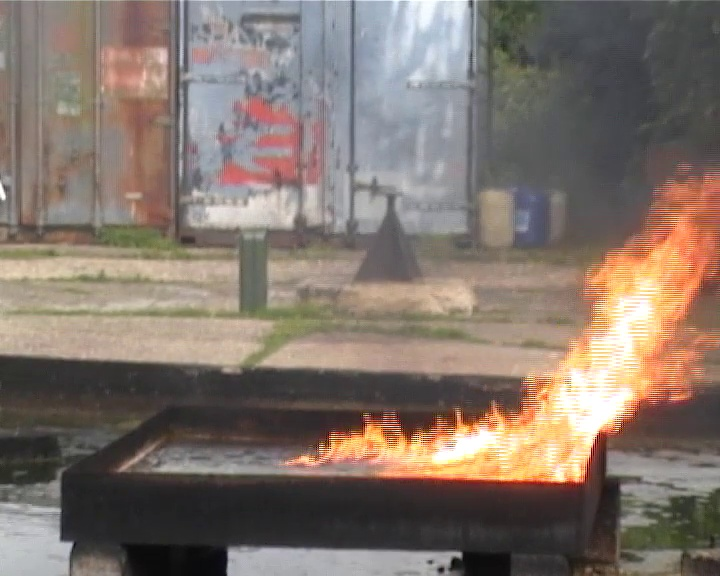fire: (293, 175, 718, 481)
